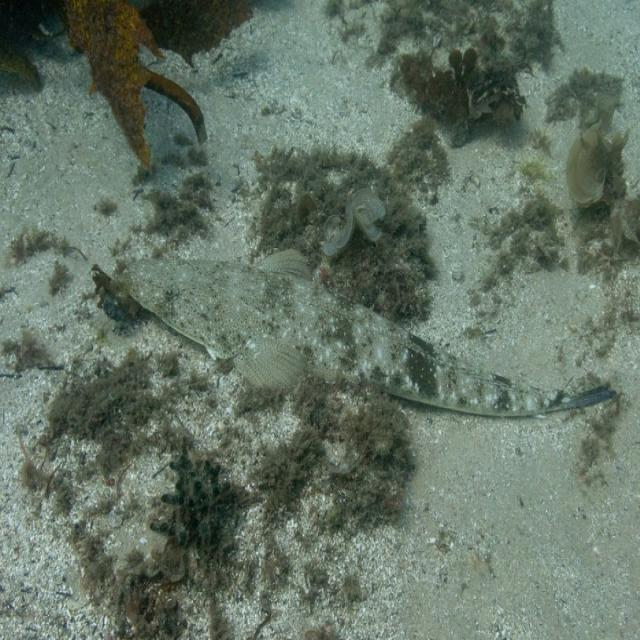Flathead: (96, 221, 628, 453)
